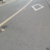zebra: (24, 1, 50, 50)
